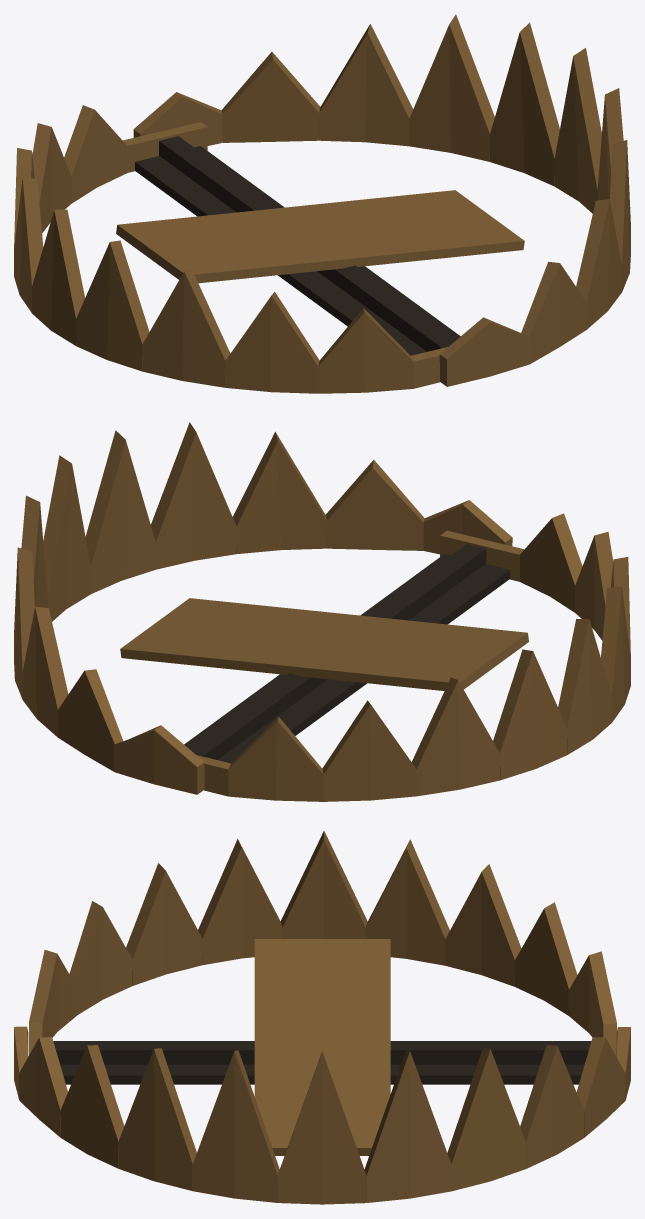
The model's file is beartrap-import.fbx.
3 renders of one model, top to bottom at view 1: azimuth 30°, elevation 25°; view 2: azimuth 150°, elevation 25°; view 3: azimuth 270°, elevation 25°, orthographic.
Visible parts, largest first — view 1: Cube, Cube.001, Cube.004, Cube.003, Cube.002; view 2: Cube, Cube.001, Cube.004, Cube.003, Cube.002; view 3: Cube, Cube.001, Cube.004, Cube.003, Cube.002.
Boxes of the visible parts, x1,y1,x2,y2 form: Cube: (133,14,630,386); Cube.001: (14,105,447,393); Cube.004: (116,190,524,283); Cube.003: (159,136,456,351); Cube.002: (135,146,460,355); Cube: (14,422,512,794); Cube.001: (196,513,630,801); Cube.004: (120,598,528,690); Cube.003: (188,544,486,759); Cube.002: (184,554,510,763); Cube: (14,1026,630,1204); Cube.001: (29,831,616,1056); Cube.004: (254,939,390,1155); Cube.003: (53,1041,591,1064); Cube.002: (60,1064,584,1084).
Size of the model in its own units: 195 by 194 by 52.54.
